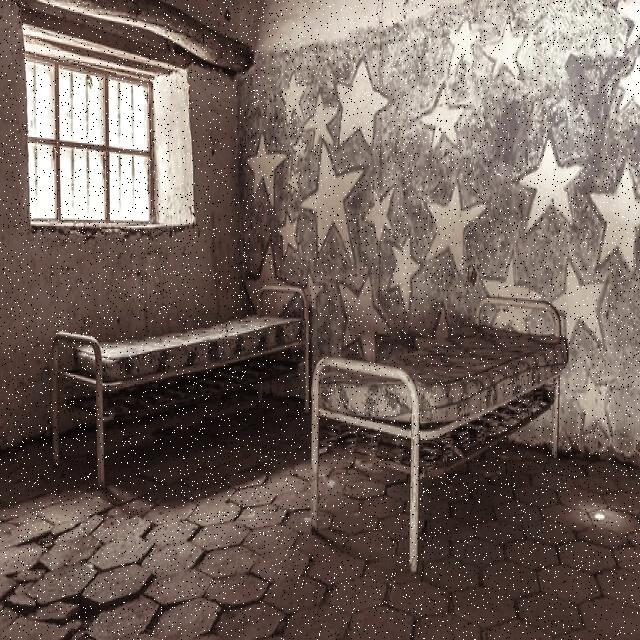bed: (319, 319, 573, 425), (70, 308, 304, 384)
